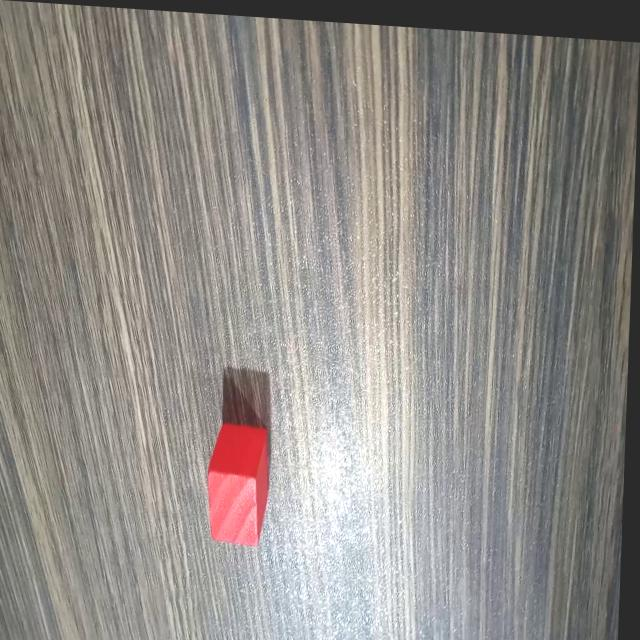cube: (204, 413, 276, 549)
